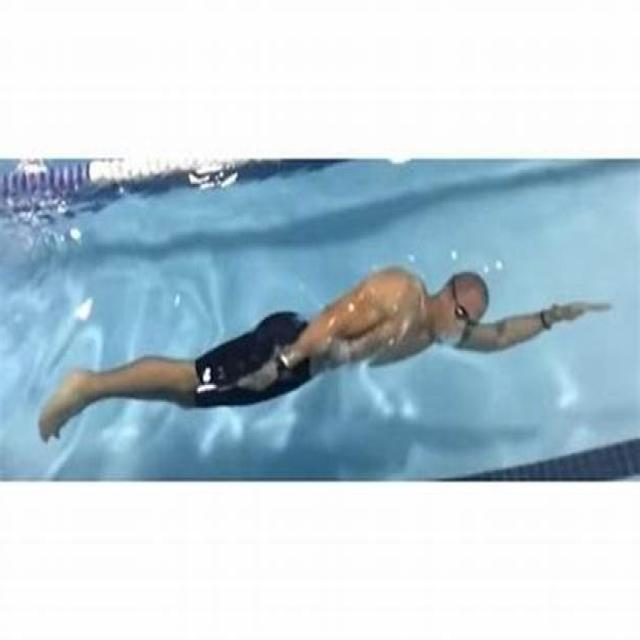swimming: (19, 218, 600, 459)
